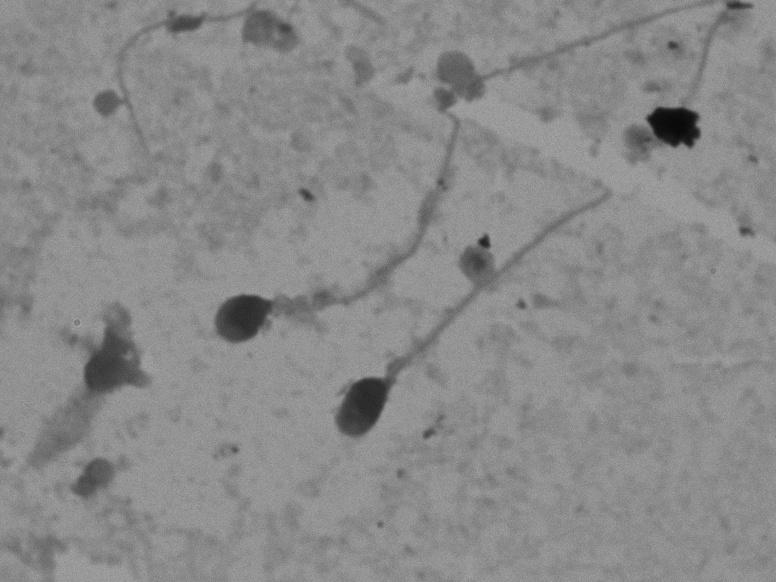Abnormal: (175, 3, 682, 367), (302, 157, 635, 456)
